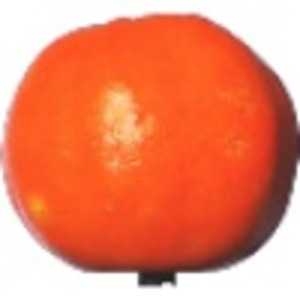tangerina: (1, 11, 300, 288)
